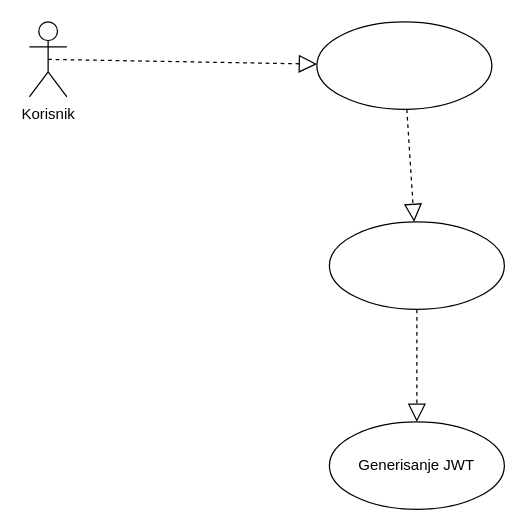
Some shapes in this 526 by 531 pixel diagram are drawn without their labels. Each missing label, with the box of its shape:
Prijava: (316, 21, 492, 109)
Provera kredencijala moderatora: (328, 221, 504, 309)
